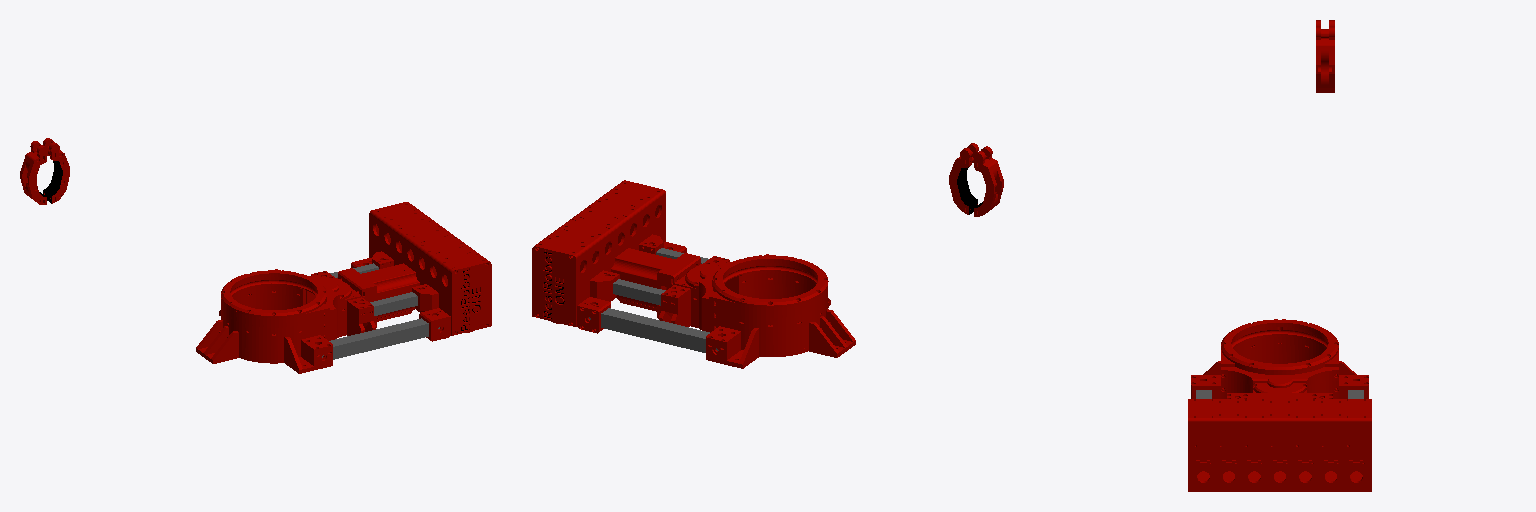
URDF robot description (rr1):
<?xml version="1.0" ?>
<!-- =================================================================================== -->
<!-- |    This document was autogenerated by xacro from src/rr1_description/urdf/rr1.urdf.xacro | -->
<!-- |    EDITING THIS FILE BY HAND IS NOT RECOMMENDED                                 | -->
<!-- =================================================================================== -->
<robot name="rr1">
  <!-- Specify some standard inertial calculations
    https://en.wikipedia.org/wiki/List_of_moments_of_inertia -->
  <!-- Gazebo's ros2_control plugin -->
  <gazebo>
    <plugin filename="libgazebo_ros2_control.so" name="gazebo_ros2_control">
      <robot_sim_type>gazebo_ros2_control/GazeboSystem</robot_sim_type>
      <parameters>[local-path]/dev_ws/install/rr1_description/share/rr1_description/config/rr1_controller.yaml</parameters>
    </plugin>
  </gazebo>
  <ros2_control name="GazeboSystem" type="system">
    <hardware>
      <plugin>gazebo_ros2_control/GazeboSystem</plugin>
    </hardware>
    <joint name="shoulder_joint">
      <command_interface name="position">
        <param name="min">-3.14</param>
        <param name="max">3.14</param>
      </command_interface>
      <state_interface name="position"/>
      <state_interface name="velocity"/>
      <state_interface name="effort"/>
    </joint>
    <joint name="upper_arm_joint">
      <command_interface name="position">
        <param name="min">-3.14</param>
        <param name="max">3.14</param>
      </command_interface>
      <state_interface name="position"/>
      <state_interface name="velocity"/>
      <state_interface name="effort"/>
    </joint>
    <joint name="elbow_joint">
      <command_interface name="position">
        <param name="min">-3.14</param>
        <param name="max">3.14</param>
      </command_interface>
      <state_interface name="position"/>
      <state_interface name="velocity"/>
      <state_interface name="effort"/>
    </joint>
    <joint name="forearm_joint">
      <command_interface name="position">
        <param name="min">-3.14</param>
        <param name="max">3.14</param>
      </command_interface>
      <state_interface name="position"/>
      <state_interface name="velocity"/>
      <state_interface name="effort"/>
    </joint>
    <joint name="wrist_joint">
      <command_interface name="position">
        <param name="min">-3.14</param>
        <param name="max">3.14</param>
      </command_interface>
      <state_interface name="position"/>
      <state_interface name="velocity"/>
      <state_interface name="effort"/>
    </joint>
    <joint name="hand_joint">
      <command_interface name="position">
        <param name="min">-3.14</param>
        <param name="max">3.14</param>
      </command_interface>
      <state_interface name="position"/>
      <state_interface name="velocity"/>
      <state_interface name="effort"/>
    </joint>
    <joint name="finger_joint">
      <command_interface name="position">
        <param name="min">-0.04</param>
        <param name="max">0.785</param>
      </command_interface>
      <state_interface name="position"/>
      <state_interface name="velocity"/>
      <state_interface name="effort"/>
    </joint>
    <joint name="opposite_finger_joint">
      <param name="mimic">finger_joint</param>
      <param name="multiplier">-1</param>
      <command_interface name="position"/>
      <state_interface name="position"/>
      <state_interface name="velocity"/>
      <state_interface name="effort"/>
    </joint>
  </ros2_control>
  <!-- We need a world link because we want the base link of the robot to be anchored to it -->
  <link name="world"/>
  <!-- Create a link with a given name. -->
  <link name="base_link">
    <!-- Create a visual component using a provided mesh file -->
    <visual>
      <origin rpy="0 0 0" xyz="-0.052 -0.013 0.179"/>
      <geometry>
        <mesh filename="package://rr1_description/mesh/visual/01_RR1_extended_base.dae" scale="0.001 0.001 0.001"/>
      </geometry>
    </visual>
    <!-- Create a collision component using a provided mesh file -->
    <collision>
      <origin rpy="0 0 0" xyz="-0.052 -0.013 0.179"/>
      <geometry>
        <mesh filename="package://rr1_description/mesh/collision/01_RR1_extended_base.stl" scale="0.001 0.001 0.001"/>
      </geometry>
    </collision>
    <!-- Insert provided inertial block -->
    <inertial>
      <origin rpy="0 0 0" xyz="0 0 0.0375"/>
      <mass value="0.5"/>
      <inertia ixx="0.0009004999999999999" ixy="0.0" ixz="0.0" iyy="0.0009004999999999999" iyz="0.0" izz="0.0013322499999999999"/>
    </inertial>
  </link>
  <joint name="virtual_joint" type="fixed">
    <parent link="world"/>
    <child link="base_link"/>
    <origin xyz="0 0 0"/>
  </joint>
  <!-- Create a link with a given name. -->
  <link name="shoulder_link">
    <!-- Create a visual component using a provided mesh file -->
    <visual>
      <origin rpy="0 0 0" xyz="-0.052 -0.013 0.109"/>
      <geometry>
        <mesh filename="package://rr1_description/mesh/visual/02_RR1_shoulder.dae" scale="0.001 0.001 0.001"/>
      </geometry>
    </visual>
    <!-- Create a collision component using a provided mesh file -->
    <collision>
      <origin rpy="0 0 0" xyz="-0.052 -0.013 0.109"/>
      <geometry>
        <mesh filename="package://rr1_description/mesh/collision/02_RR1_shoulder.stl" scale="0.001 0.001 0.001"/>
      </geometry>
    </collision>
    <!-- Insert provided inertial block -->
    <inertial>
      <origin rpy="0 -0.39269908169875 0" xyz="-0.04 -0.035 0.0545"/>
      <mass value="0.2"/>
      <inertia ixx="0.000665" ixy="0.0" ixz="0.0" iyy="0.000665" iyz="0.0" izz="0.00025000000000000006"/>
    </inertial>
  </link>
  <joint name="shoulder_joint" type="revolute">
    <parent link="base_link"/>
    <child link="shoulder_link"/>
    <origin xyz="0 0 0.07"/>
    <axis xyz="0 0 1"/>
    <limit effort="30" lower="-3.14159265359" upper="3.14159265359" velocity="10"/>
    <dynamics damping="10" friction="10.0"/>
  </joint>
  <!-- Create a link with a given name. -->
  <link name="upper_arm_link">
    <!-- Create a visual component using a provided mesh file -->
    <visual>
      <origin rpy="0 0 0" xyz="0 -0.013 0"/>
      <geometry>
        <mesh filename="package://rr1_description/mesh/visual/03_RR1_upper_arm.dae" scale="0.001 0.001 0.001"/>
      </geometry>
    </visual>
    <!-- Create a collision component using a provided mesh file -->
    <collision>
      <origin rpy="0 0 0" xyz="0 -0.013 0"/>
      <geometry>
        <mesh filename="package://rr1_description/mesh/collision/03_RR1_upper_arm.stl" scale="0.001 0.001 0.001"/>
      </geometry>
    </collision>
    <!-- Insert provided inertial block -->
    <inertial>
      <origin rpy="0 0 0" xyz="0 0.035 0.125"/>
      <mass value="0.4"/>
      <inertia ixx="0.004135833333333333" ixy="0.0" ixz="0.0" iyy="0.004135833333333333" iyz="0.0" izz="0.001445"/>
    </inertial>
  </link>
  <joint name="upper_arm_joint" type="revolute">
    <parent link="shoulder_link"/>
    <child link="upper_arm_link"/>
    <origin xyz="-0.052 0 0.109"/>
    <axis xyz="0 1 0"/>
    <limit effort="30" lower="-1.570796326795" upper="1.570796326795" velocity="10"/>
    <dynamics damping="10" friction="10.0"/>
  </joint>
  <!-- Create a link with a given name. -->
  <link name="elbow_link">
    <!-- Create a visual component using a provided mesh file -->
    <visual>
      <origin rpy="0 0 0" xyz="0 -0.013 -0.225"/>
      <geometry>
        <mesh filename="package://rr1_description/mesh/visual/04_RR1_elbow.dae" scale="0.001 0.001 0.001"/>
      </geometry>
    </visual>
    <!-- Create a collision component using a provided mesh file -->
    <collision>
      <origin rpy="0 0 0" xyz="0 -0.013 -0.225"/>
      <geometry>
        <mesh filename="package://rr1_description/mesh/collision/04_RR1_elbow.stl" scale="0.001 0.001 0.001"/>
      </geometry>
    </collision>
    <!-- Insert provided inertial block -->
    <inertial>
      <origin rpy="0 0 0" xyz="0.032 0 0.04"/>
      <mass value="0.3"/>
      <inertia ixx="0.0009781249999999998" ixy="0.0" ixz="0.0" iyy="0.0016593999999999997" iyz="0.0" izz="0.0008325249999999999"/>
    </inertial>
  </link>
  <joint name="elbow_joint" type="revolute">
    <parent link="upper_arm_link"/>
    <child link="elbow_link"/>
    <origin xyz="0 0 0.225"/>
    <axis xyz="0 1 0"/>
    <limit effort="30" lower="-1.570796326795" upper="1.570796326795" velocity="10"/>
    <dynamics damping="10" friction="10.0"/>
  </joint>
  <!-- Create a link with a given name. -->
  <link name="forearm_link">
    <!-- Create a visual component using a provided mesh file -->
    <visual>
      <origin rpy="0 0 0" xyz="0 -0.0042 -0.3257"/>
      <geometry>
        <mesh filename="package://rr1_description/mesh/visual/05_RR1_forearm.dae" scale="0.001 0.001 0.001"/>
      </geometry>
    </visual>
    <!-- Create a collision component using a provided mesh file -->
    <collision>
      <origin rpy="0 0 0" xyz="0 -0.0042 -0.3257"/>
      <geometry>
        <mesh filename="package://rr1_description/mesh/collision/05_RR1_forearm.stl" scale="0.001 0.001 0.001"/>
      </geometry>
    </collision>
    <!-- Insert provided inertial block -->
    <inertial>
      <origin rpy="0 -1.570796326795 0" xyz="-0.18 0 0"/>
      <mass value="0.35"/>
      <inertia ixx="0.002190416666666667" ixy="0.0" ixz="0.0" iyy="0.002190416666666667" iyz="0.0" izz="0.00043749999999999995"/>
    </inertial>
  </link>
  <joint name="forearm_joint" type="revolute">
    <parent link="elbow_link"/>
    <child link="forearm_link"/>
    <origin xyz="0 -0.0088 0.1007"/>
    <axis xyz="1 0 0"/>
    <limit effort="30" lower="-1.570796326795" upper="1.570796326795" velocity="10"/>
    <dynamics damping="10" friction="10.0"/>
  </joint>
  <!-- Create a link with a given name. -->
  <link name="wrist_link">
    <!-- Create a visual component using a provided mesh file -->
    <visual>
      <origin rpy="0 0 0" xyz="0.284 -0.0042 -0.3257"/>
      <geometry>
        <mesh filename="package://rr1_description/mesh/visual/06_RR1_wrist.dae" scale="0.001 0.001 0.001"/>
      </geometry>
    </visual>
    <!-- Create a collision component using a provided mesh file -->
    <collision>
      <origin rpy="0 0 0" xyz="0.284 -0.0042 -0.3257"/>
      <geometry>
        <mesh filename="package://rr1_description/mesh/collision/06_RR1_wrist.stl" scale="0.001 0.001 0.001"/>
      </geometry>
    </collision>
    <!-- Insert provided inertial block -->
    <inertial>
      <origin rpy="0 0 0" xyz="0 0.062 0.038"/>
      <mass value="0.15"/>
      <inertia ixx="0.00017544999999999998" ixy="0.0" ixz="0.0" iyy="0.00017544999999999998" iyz="0.0" izz="4.839999999999999e-05"/>
    </inertial>
  </link>
  <joint name="wrist_joint" type="revolute">
    <parent link="forearm_link"/>
    <child link="wrist_link"/>
    <origin xyz="-0.284 0 0"/>
    <axis xyz="0 1 0"/>
    <limit effort="30" lower="-0.39269908169875" upper="3.14159265359" velocity="10"/>
    <dynamics damping="10" friction="10.0"/>
  </joint>
  <!-- Create a link with a given name. -->
  <link name="hand_link">
    <!-- Create a visual component using a provided mesh file -->
    <visual>
      <origin rpy="0 0 0" xyz="0.284 -0.07 -0.3257"/>
      <geometry>
        <mesh filename="package://rr1_description/mesh/visual/07_RR1_hand_no_grip.dae" scale="0.001 0.001 0.001"/>
      </geometry>
    </visual>
    <!-- Create a collision component using a provided mesh file -->
    <collision>
      <origin rpy="0 0 0" xyz="0.284 -0.07 -0.3257"/>
      <geometry>
        <mesh filename="package://rr1_description/mesh/collision/07_RR1_hand_no_grip.stl" scale="0.001 0.001 0.001"/>
      </geometry>
    </collision>
    <!-- Insert provided inertial block -->
    <inertial>
      <origin rpy="0 0 0" xyz="0 0 -0.08"/>
      <mass value="0.2"/>
      <inertia ixx="0.00039697916666666674" ixy="0.0" ixz="0.0" iyy="0.00039697916666666674" iyz="0.0" izz="0.000140625"/>
    </inertial>
  </link>
  <joint name="hand_joint" type="revolute">
    <parent link="wrist_link"/>
    <child link="hand_link"/>
    <origin xyz="0 0.0658 0"/>
    <axis xyz="0 0 1"/>
    <limit effort="30" lower="-1.570796326795" upper="1.570796326795" velocity="10"/>
    <dynamics damping="10" friction="10.0"/>
  </joint>
  <!-- Create a link with a given name. -->
  <link name="finger_link">
    <!-- Create a visual component using a provided mesh file -->
    <visual>
      <origin rpy="0 0 0" xyz="0.274 -0.07 -0.1757"/>
      <geometry>
        <mesh filename="package://rr1_description/mesh/visual/08_RR1_grip.dae" scale="0.001 0.001 0.001"/>
      </geometry>
    </visual>
    <!-- Create a collision component using a provided mesh file -->
    <collision>
      <origin rpy="0 0 0" xyz="0.274 -0.07 -0.1757"/>
      <geometry>
        <mesh filename="package://rr1_description/mesh/collision/08_RR1_grip.stl" scale="0.001 0.001 0.001"/>
      </geometry>
    </collision>
    <!-- Insert provided inertial block -->
    <inertial>
      <origin rpy="0 0 0" xyz="0.01 0 -0.05"/>
      <mass value="0.02"/>
      <inertia ixx="6.666666666666667e-06" ixy="0.0" ixz="0.0" iyy="6.1666666666666655e-06" iyz="0.0" izz="8.333333333333333e-07"/>
    </inertial>
  </link>
  <joint name="finger_joint" type="revolute">
    <parent link="hand_link"/>
    <child link="finger_link"/>
    <origin xyz="0.01 0 -0.15"/>
    <axis xyz="0 -1 0"/>
    <limit effort="30" lower="-0.04" upper="0.7853981633975" velocity="10"/>
    <dynamics damping="10" friction="10.0"/>
  </joint>
  <!-- Create a link with a given name. -->
  <link name="opposite_finger_link">
    <!-- Create a visual component using a provided mesh file -->
    <visual>
      <origin rpy="0 0 0" xyz="0.294 -0.07 -0.1757"/>
      <geometry>
        <mesh filename="package://rr1_description/mesh/visual/08_RR1_grip_opposite.dae" scale="0.001 0.001 0.001"/>
      </geometry>
    </visual>
    <!-- Create a collision component using a provided mesh file -->
    <collision>
      <origin rpy="0 0 0" xyz="0.294 -0.07 -0.1757"/>
      <geometry>
        <mesh filename="package://rr1_description/mesh/collision/08_RR1_grip_opposite.stl" scale="0.001 0.001 0.001"/>
      </geometry>
    </collision>
    <!-- Insert provided inertial block -->
    <inertial>
      <origin rpy="0 0 0" xyz="-0.01 0 -0.05"/>
      <mass value="0.02"/>
      <inertia ixx="6.666666666666667e-06" ixy="0.0" ixz="0.0" iyy="6.1666666666666655e-06" iyz="0.0" izz="8.333333333333333e-07"/>
    </inertial>
  </link>
  <joint name="opposite_finger_joint" type="revolute">
    <parent link="hand_link"/>
    <child link="opposite_finger_link"/>
    <origin xyz="-0.01 0 -0.15"/>
    <axis xyz="0 1 0"/>
    <mimic joint="finger_joint"/>
    <limit effort="30" lower="-0.04" upper="0.7853981633975" velocity="10"/>
    <dynamics damping="10" friction="10.0"/>
  </joint>
  <link name="tool"/>
  <joint name="tool_joint" type="fixed">
    <parent link="hand_link"/>
    <child link="tool"/>
    <origin xyz="0 0 -0.195"/>
  </joint>
</robot>

--- Facts derived from the render (not from the file) ---
The picture shows the robot from 3 angles, left to right: view 1: azimuth 30°, elevation 25°; view 2: azimuth 150°, elevation 25°; view 3: azimuth 270°, elevation 25°; orthographic projection.
Robot: rr1 — 11 links, 10 joints (8 revolute, 2 fixed); root link world; default pose: all joints at 0.
Links seen in each view (by area): view 1: base_link, opposite_finger_link, finger_link; view 2: base_link, opposite_finger_link, finger_link; view 3: base_link, finger_link.
Link boxes in pixels (bbox=[...]): base_link: bbox=[196, 202, 491, 373]; opposite_finger_link: bbox=[20, 141, 47, 204]; finger_link: bbox=[43, 138, 69, 203]; base_link: bbox=[532, 180, 855, 368]; opposite_finger_link: bbox=[974, 146, 1003, 216]; finger_link: bbox=[949, 143, 978, 214]; base_link: bbox=[1188, 319, 1371, 491]; finger_link: bbox=[1316, 27, 1334, 92].
Bounding box of the posed robot: 0.653 × 0.23 × 0.3612 m (x, y, z).
Meshes: 9 distinct files referenced, 3 mesh visuals loaded (3 Collada DAE); not drawn: 6 (reference not matched to a file when rendering).